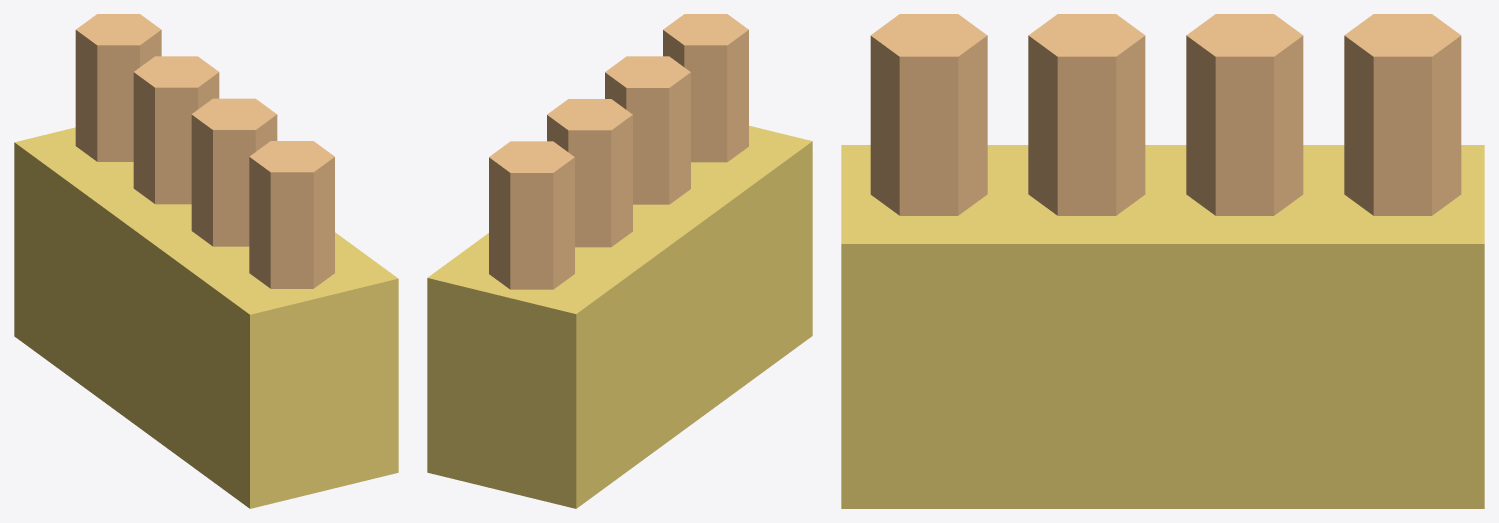
File: AttClip.fbx
3 views of the same model, side by side, from view 1: azimuth 30°, elevation 25°; view 2: azimuth 150°, elevation 25°; view 3: azimuth 270°, elevation 25° (orthographic). The views are drawn at different scales.
Visible parts, largest first — view 1: Body; view 2: Body; view 3: Body.
Boxes of the visible parts, x1,y1,x2,y2 form: Body: (14,14,398,508); Body: (427,14,812,508); Body: (841,14,1484,508).
Size of the model in its own units: 0.04 by 0.08 by 0.11.
